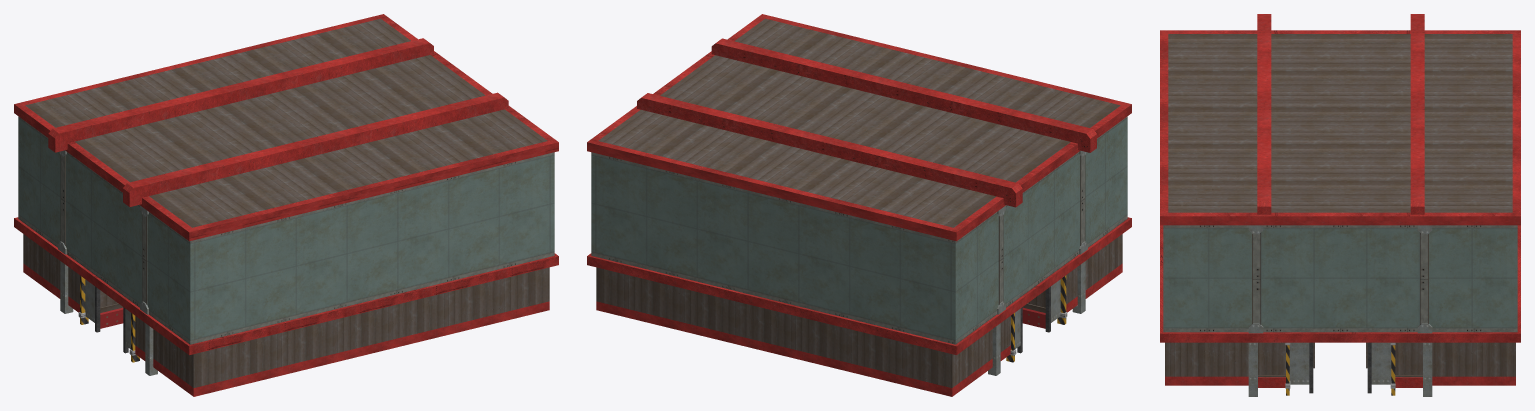
The model's file is Ob_Building2Full_RC.fbx.
3 renders of one model, left to right at view 1: azimuth 30°, elevation 25°; view 2: azimuth 150°, elevation 25°; view 3: azimuth 270°, elevation 25°, orthographic. The views are drawn at different scales.
Visible parts, largest first — view 1: Ob_Building2Full_RC; view 2: Ob_Building2Full_RC; view 3: Ob_Building2Full_RC.
Part boxes in pixels (box(x1,y1,x2,y2)): Ob_Building2Full_RC: box(14, 14, 558, 396); Ob_Building2Full_RC: box(587, 14, 1131, 396); Ob_Building2Full_RC: box(1160, 14, 1520, 396).
Bounding box in the file's own units: 5381 × 2523 × 4264.
